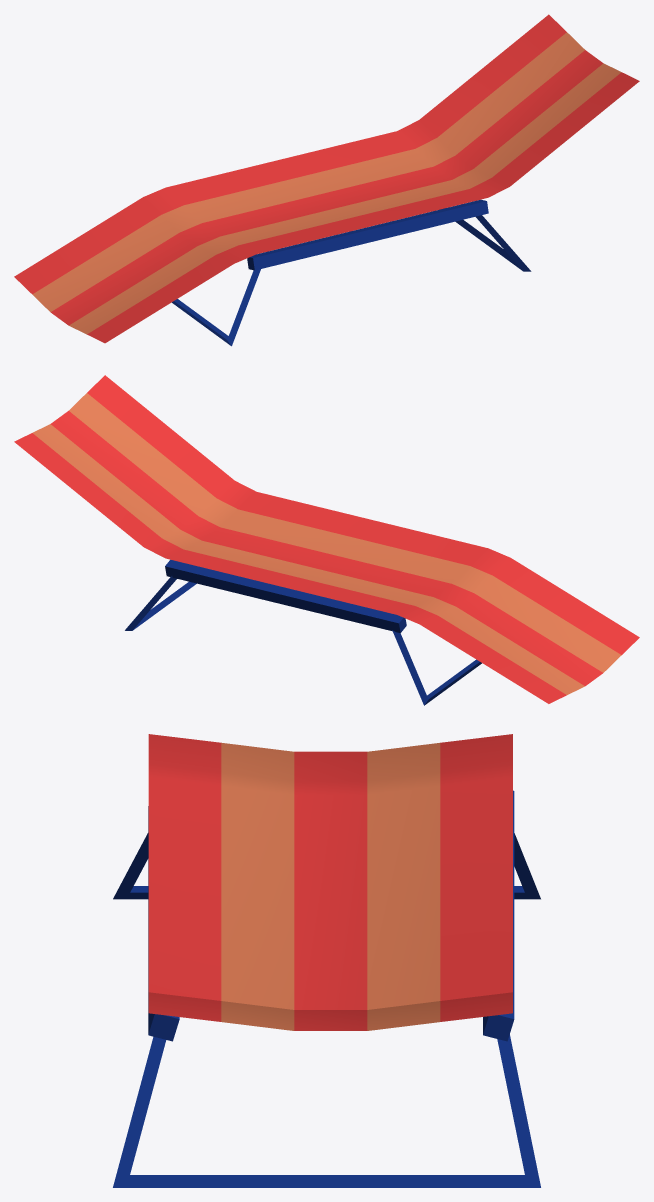
The model's file is Hamaca.FBX.
The picture shows the model from 3 angles, top to bottom: view 1: azimuth 30°, elevation 25°; view 2: azimuth 150°, elevation 25°; view 3: azimuth 270°, elevation 25°; orthographic projection. The views are drawn at different scales.
Parts seen in each view (by area): view 1: Line010; view 2: Line010; view 3: Line010.
Part boxes in pixels (x1,y1,x2,y2): Line010: [14, 14, 639, 346]; Line010: [14, 375, 639, 705]; Line010: [113, 734, 540, 1187].
Bounding box in the file's own units: 378 × 106 × 131.
